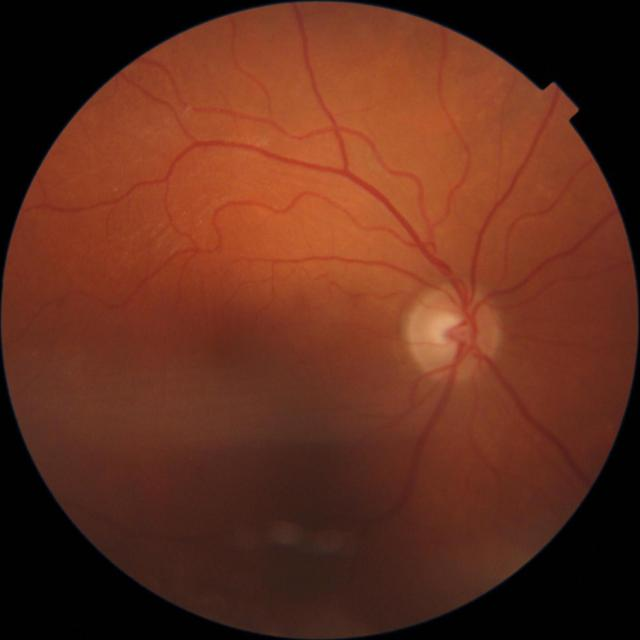OC: (430, 313, 466, 351)
OD: (406, 292, 496, 378)
